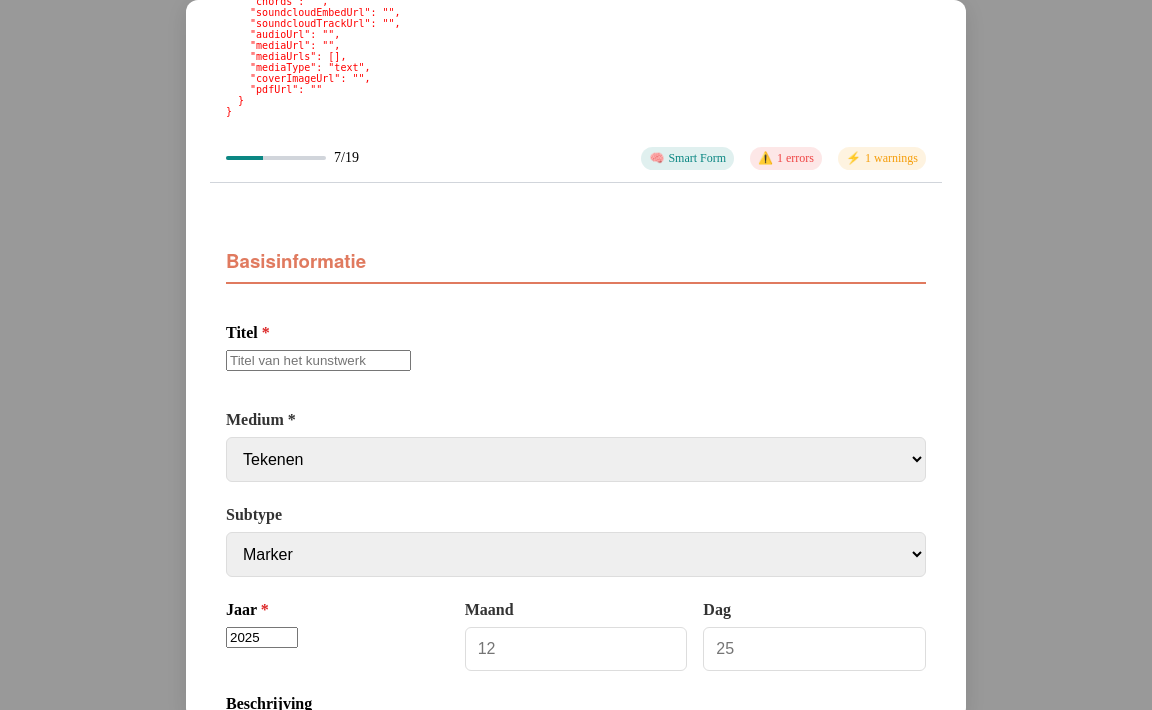
Test: AdminModal › Error States › shows submission error when Firebase fails
(page scrolled)
Type "Test Error" into the field labelled "Titel" at (318, 360), box [226,350,411,371]
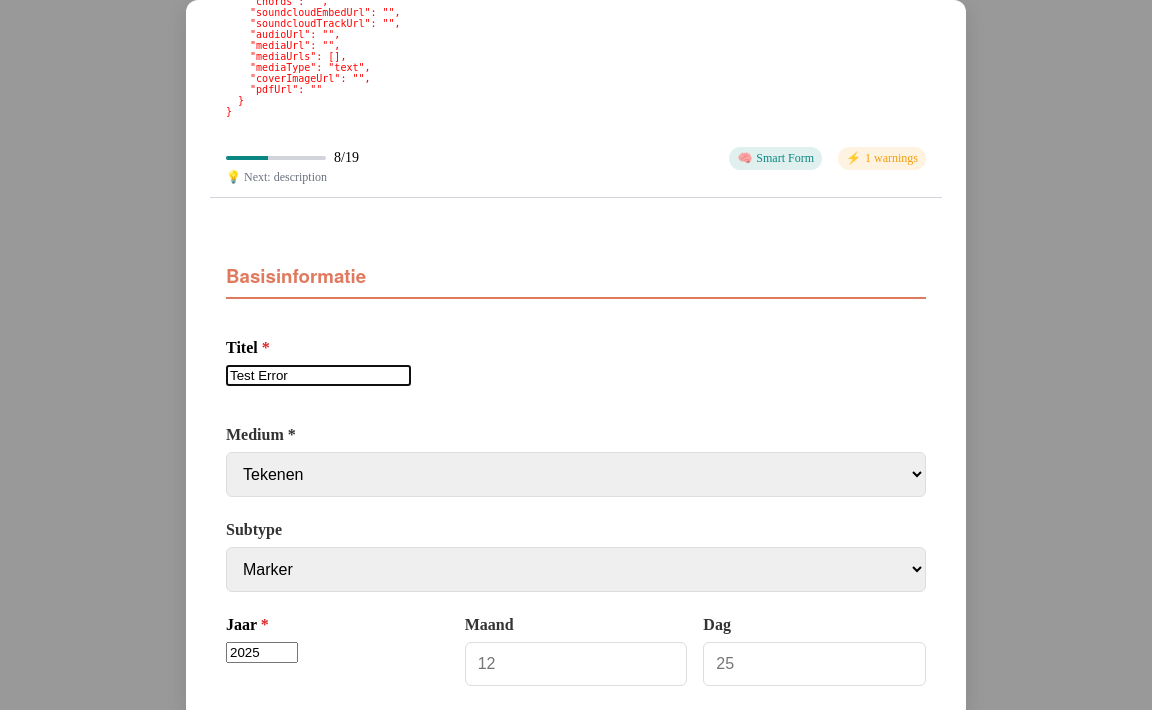
Select "Schrijven" in the dropdown labelled "Medium *" at (576, 474), box [226,452,926,497]
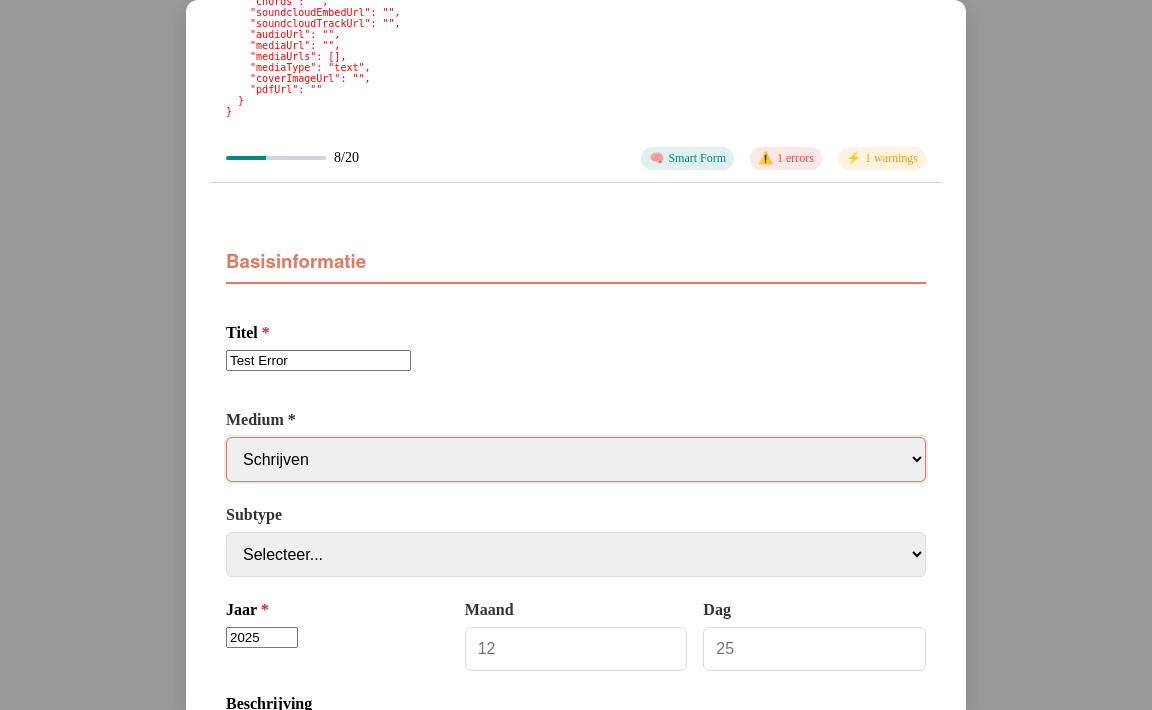
Clear the number field named "Jaar" at (262, 637), box [226,627,298,648]
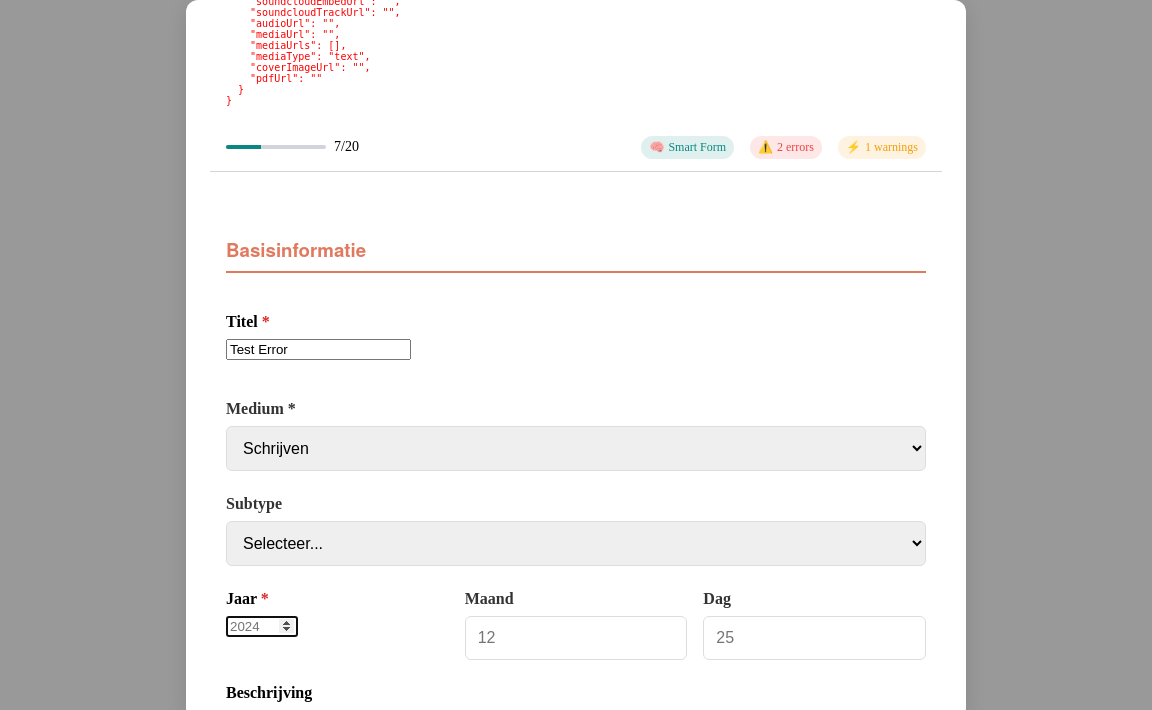
Type "2025" into the number field named "Jaar" at (262, 626), box [226,616,298,637]
(page scrolled)
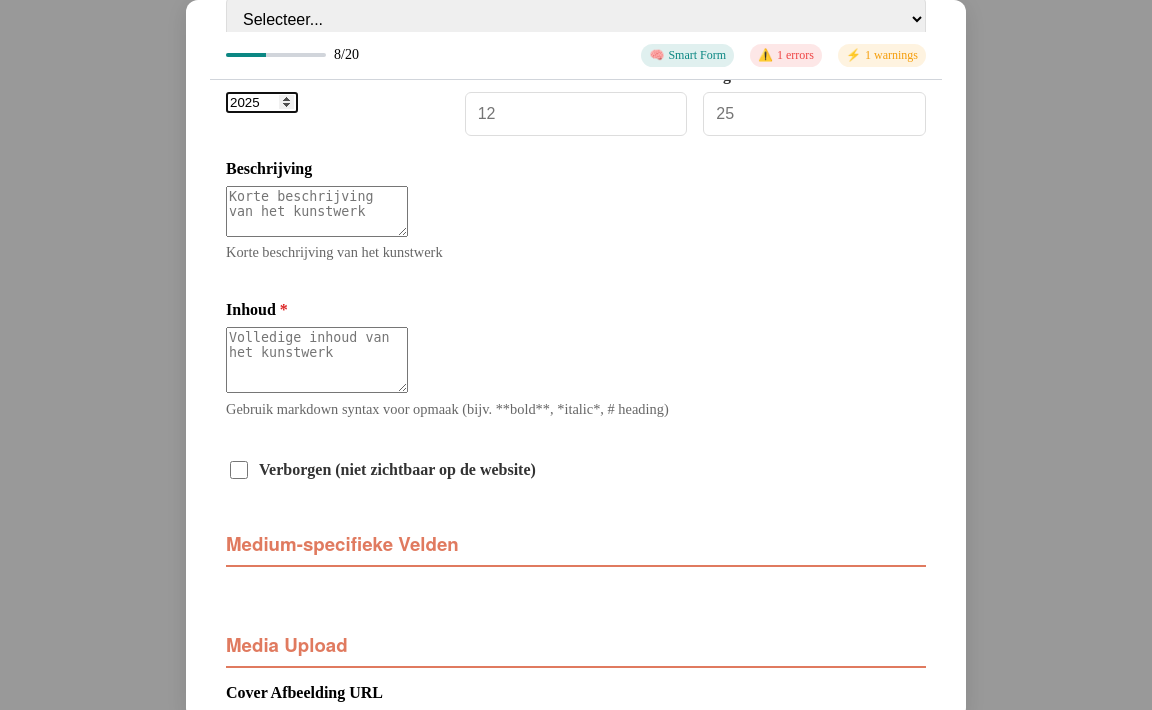
Type "Test content" into the text box labelled "Inhoud *" at (317, 360), box [226,327,408,393]
(page scrolled)
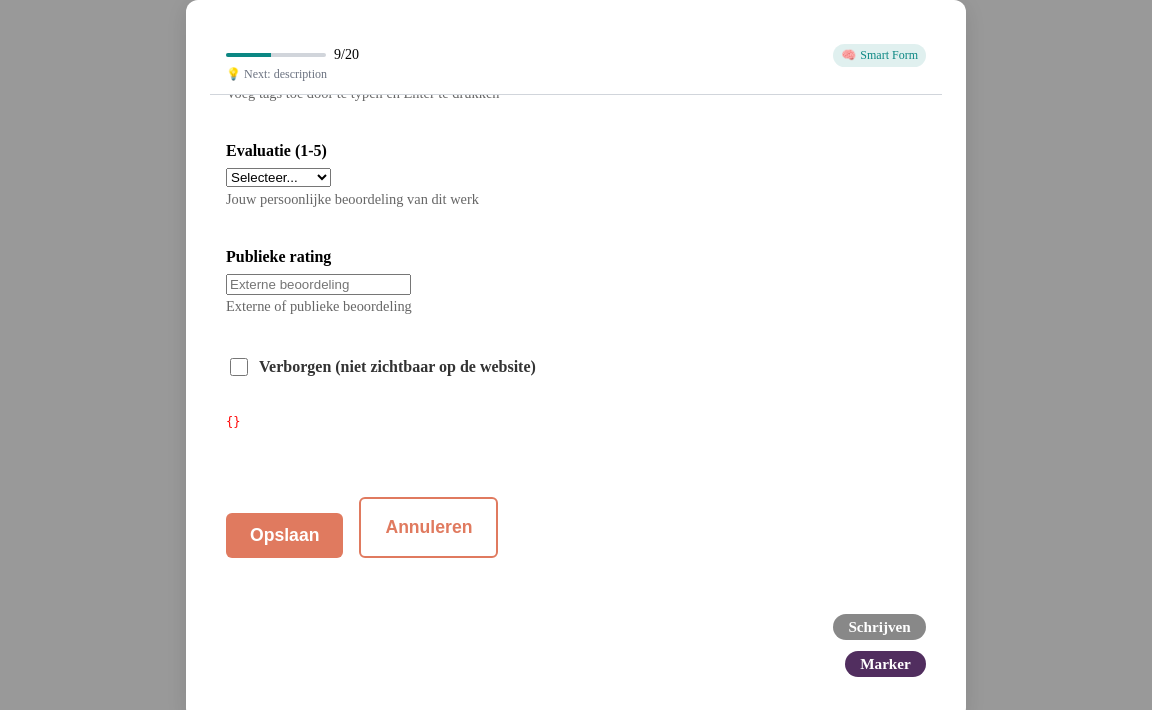
Click the button "Opslaan" at (285, 536), box [226,513,343,558]
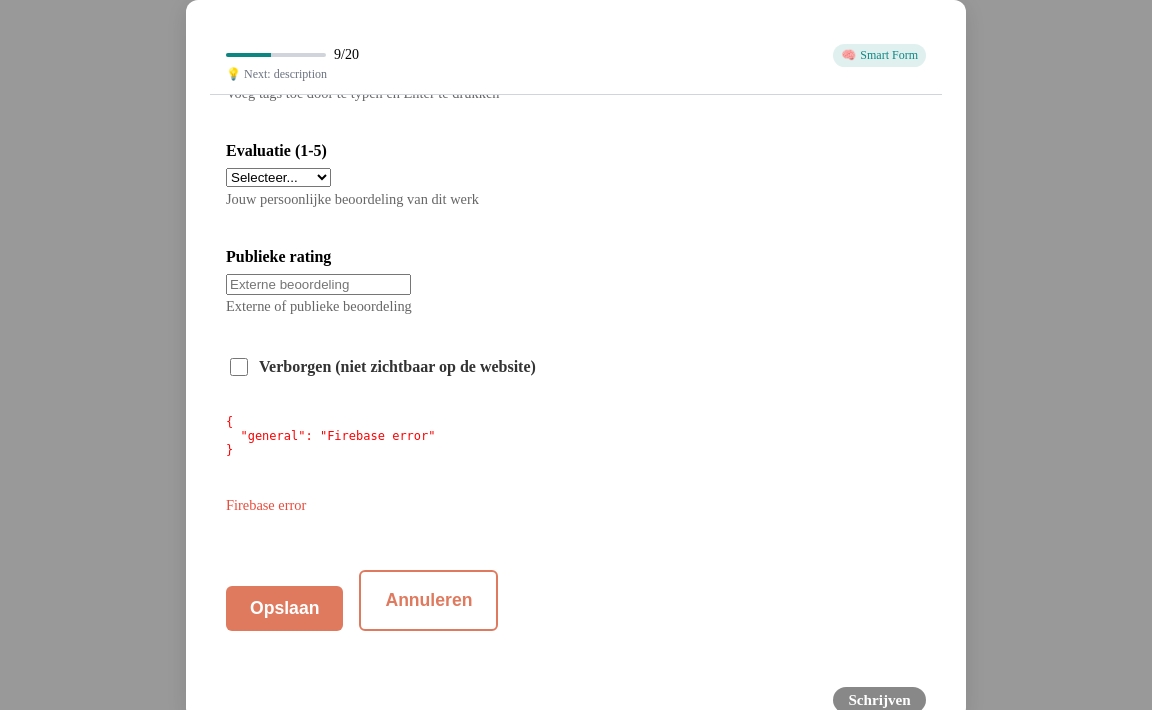
Expected: the text with test id "error-message" reads "Firebase error", [226,497,306,513]
